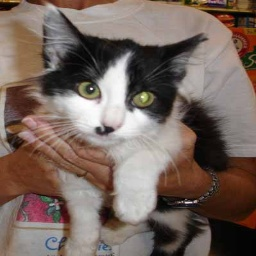cat: (30, 3, 232, 256)
